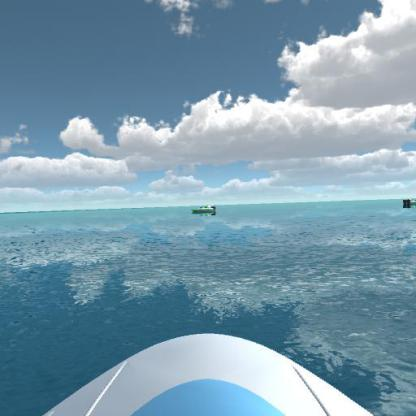usv0: (190, 202, 219, 217), (402, 194, 416, 211)
